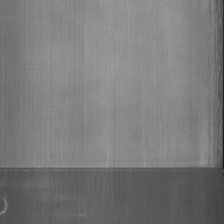welding_line: (1, 157, 224, 183)
